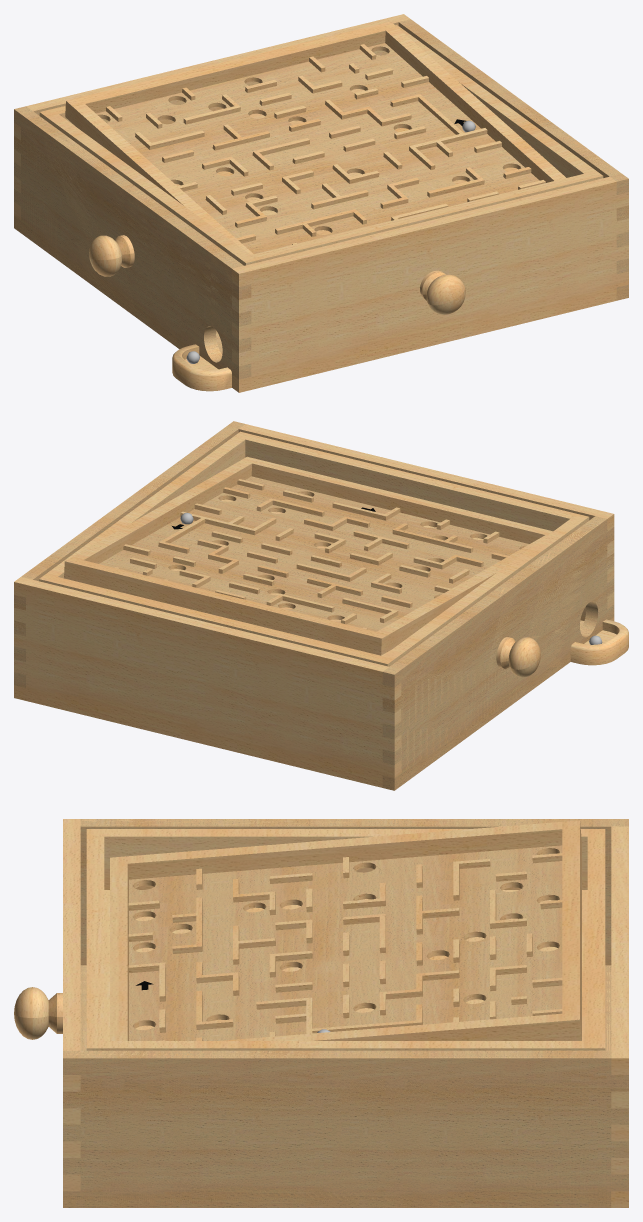
3 views of the same model, one above another, from view 1: azimuth 30°, elevation 25°; view 2: azimuth 150°, elevation 25°; view 3: azimuth 270°, elevation 25° (orthographic). The views are drawn at different scales.
Parts seen in each view (by area): view 1: group_2 (×3), group_1 (×12), group_0 (×2), Knob1 (×2); view 2: group_2 (×3), group_1 (×5), group_0 (×2), Knob1; view 3: group_2 (×2), group_1 (×12), group_0 (×2), Knob1.
Boxes of the visible parts, box(x1,y1,x2,y2) form: group_2 (×3): box(14, 14, 628, 392); group_1 (×12): box(65, 21, 565, 254); group_0 (×2): box(39, 25, 603, 265); Knob1 (×2): box(89, 235, 465, 314); group_2 (×3): box(14, 421, 628, 790); group_1 (×5): box(64, 456, 552, 655); group_0 (×2): box(39, 431, 589, 666); Knob1: box(496, 637, 540, 677); group_2 (×2): box(63, 819, 628, 1207); group_1 (×12): box(110, 820, 581, 1040); group_0 (×2): box(86, 829, 605, 1050); Knob1: box(14, 987, 62, 1039).
Bounding box in the file's own units: 13.04 × 13.04 × 3.93.
5 materials, 3 textured.
